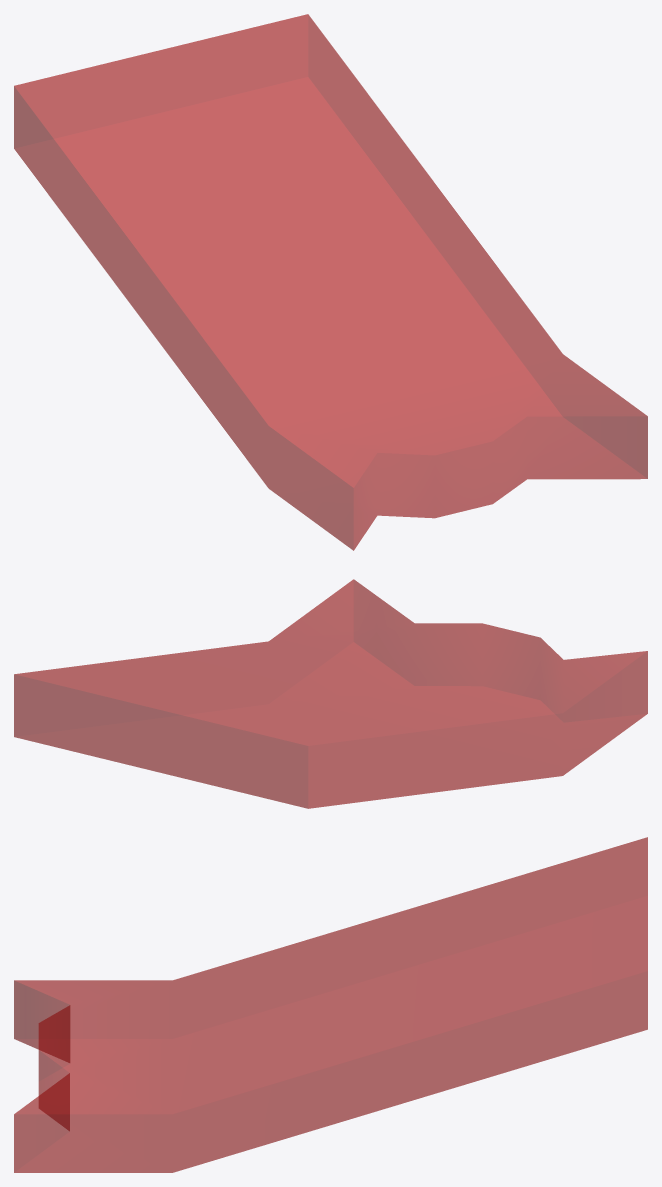
File: SM_Env_Motorway_Ramp_Middle_Destroyed_01_Collision.fbx
3 views of the same model, one above another, from view 1: azimuth 30°, elevation 25°; view 2: azimuth 150°, elevation 25°; view 3: azimuth 270°, elevation 25° (orthographic). The views are drawn at different scales.
Visible parts, largest first — view 1: SM_Env_Motorway_Ramp_Middle_Destroyed_01_Collision; view 2: SM_Env_Motorway_Ramp_Middle_Destroyed_01_Collision; view 3: SM_Env_Motorway_Ramp_Middle_Destroyed_01_Collision.
Part boxes in pixels (x1=…): SM_Env_Motorway_Ramp_Middle_Destroyed_01_Collision: x1=14, y1=14, x2=647, y2=550; SM_Env_Motorway_Ramp_Middle_Destroyed_01_Collision: x1=14, y1=579, x2=647, y2=808; SM_Env_Motorway_Ramp_Middle_Destroyed_01_Collision: x1=14, y1=837, x2=647, y2=1172.
Bounding box in the file's own units: 500 × 351 × 1000.
